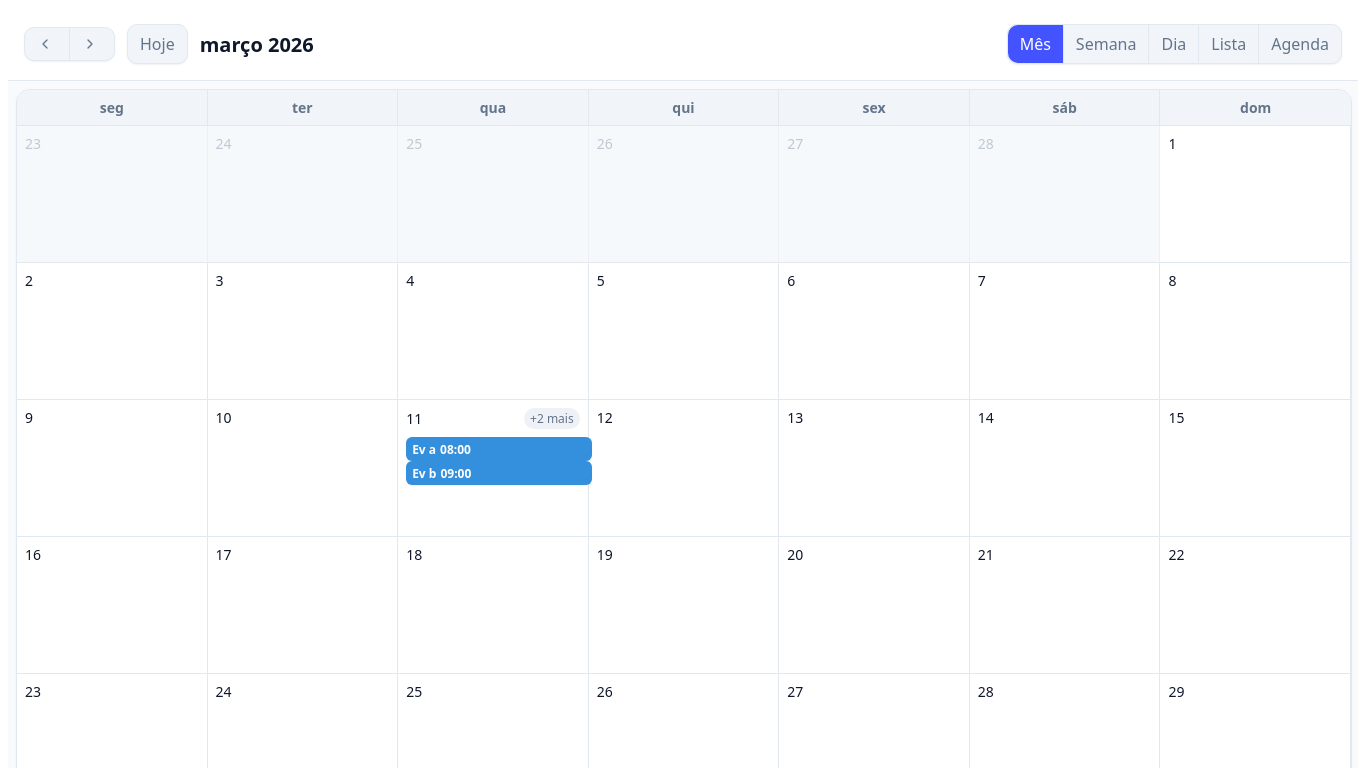
Test: Calendar FullCalendar options › limits month cells with dayMaxEvents and lists the rest in a popover
The image size is (1366, 768).
Expected: the number of buttons with class "react-agendfy-event-item" is 2, [406,437,592,461]; [406,461,592,485]
What coordinates should you click on to do the following:
click the button "+2 mais"
I would click on:
 (552, 418)
Its box is [524,408,580,429].
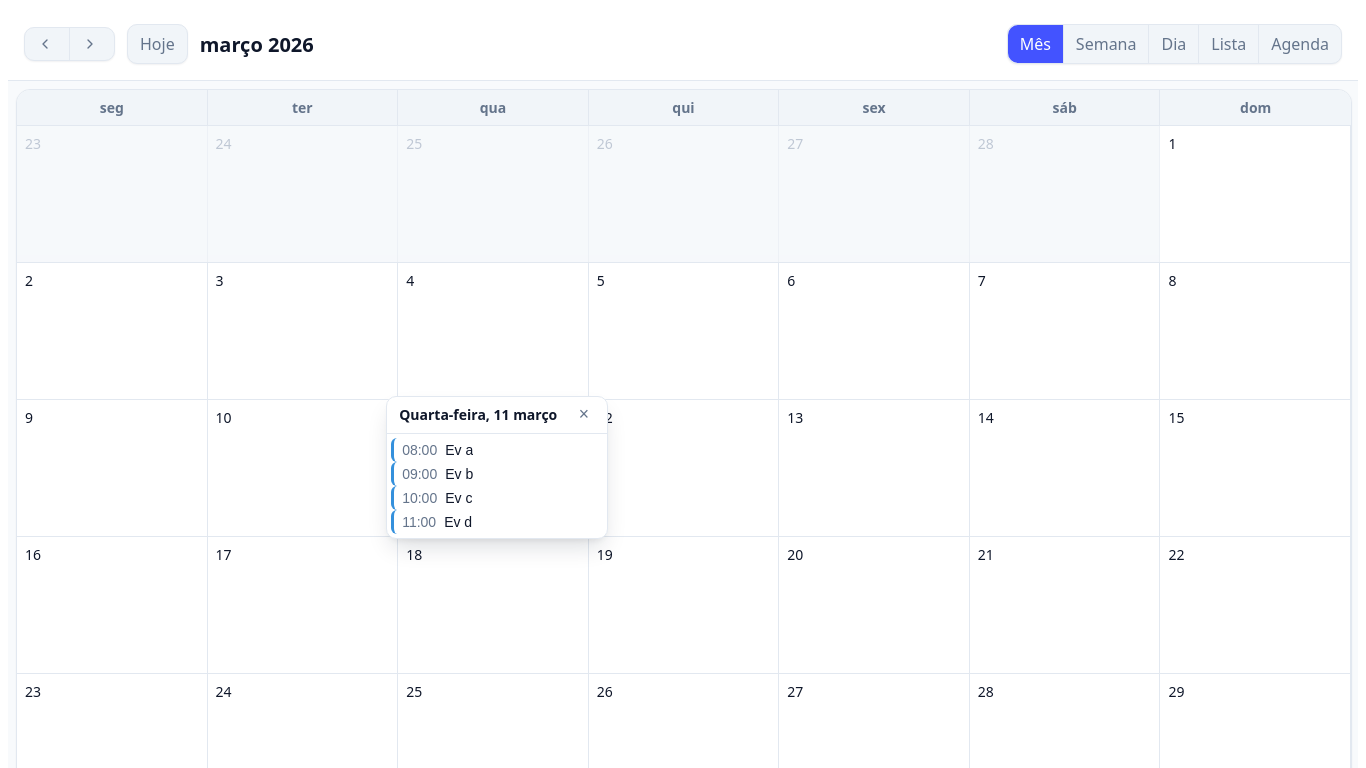
What coordinates should you click on to do the following:
click the button "11:00 Ev d"
I would click on:
 (497, 522)
Its box is [391,510,603,534].
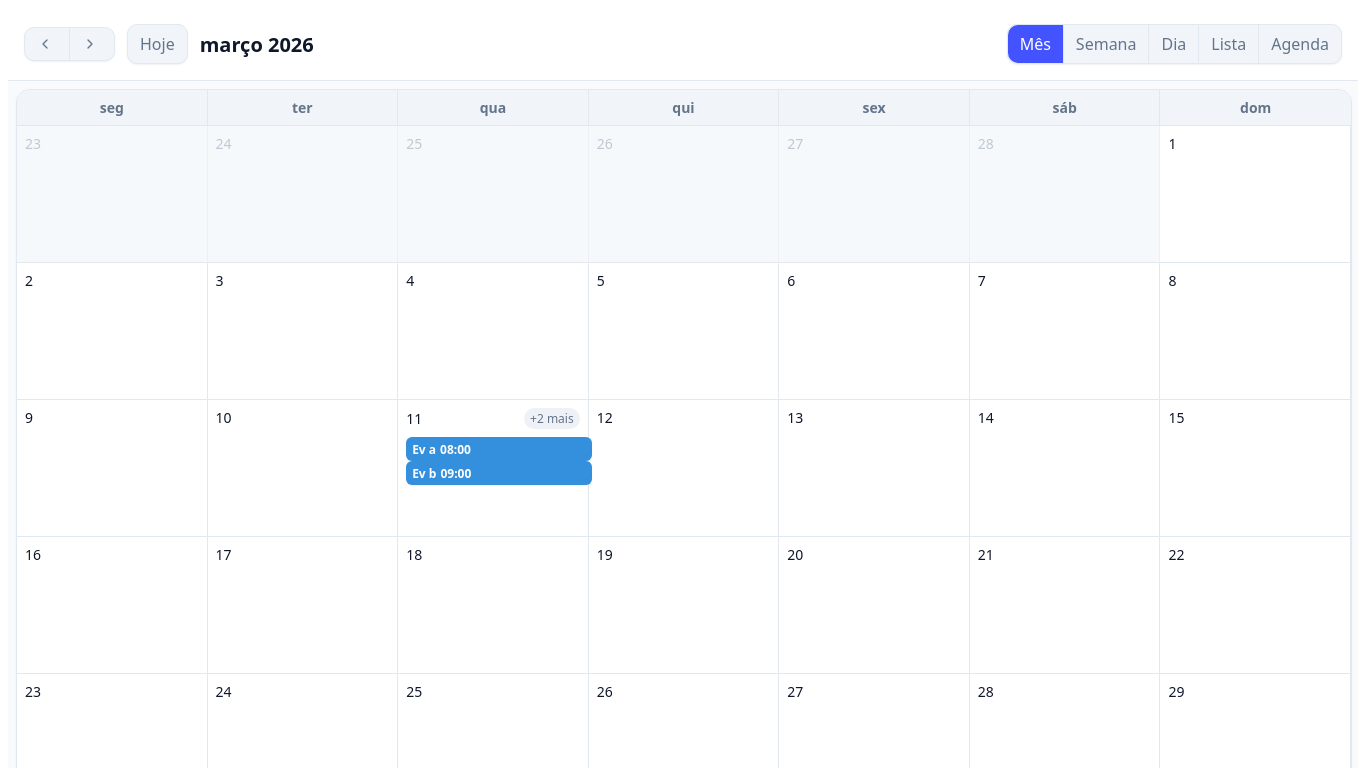
Now the dialog with class "react-agendfy-more-popover" is gone
